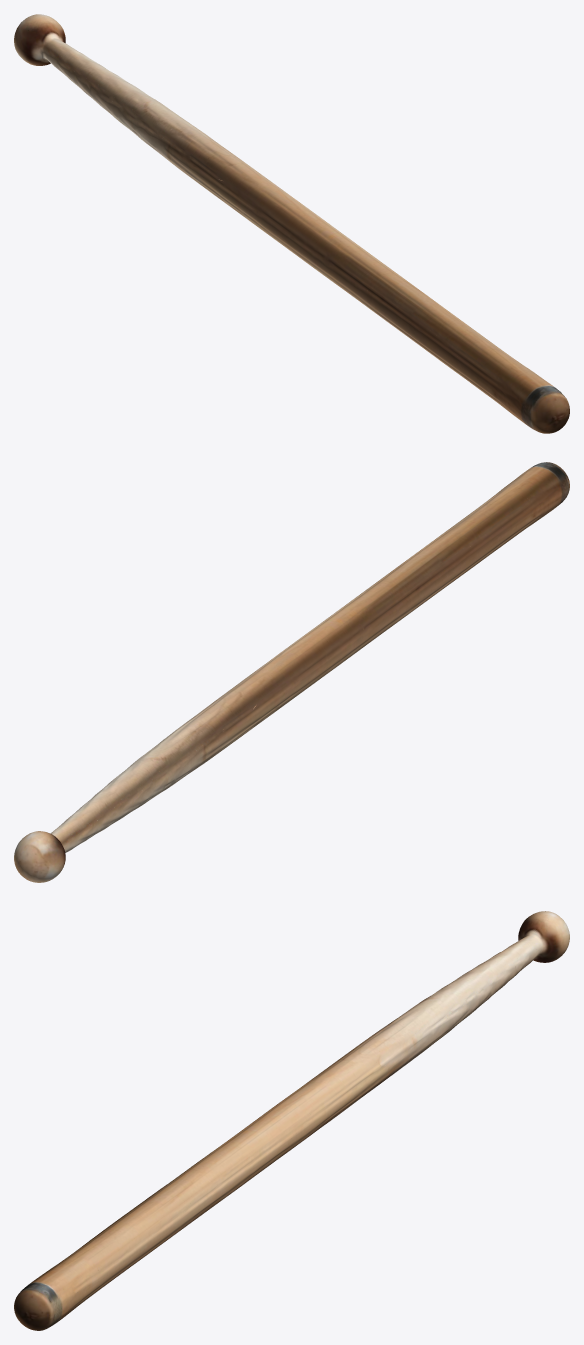
The model's file is drumstick.glb.
3 views of the same model, one above another, from view 1: azimuth 30°, elevation 25°; view 2: azimuth 150°, elevation 25°; view 3: azimuth 330°, elevation 25° (orthographic).
Parts seen in each view (by area): view 1: Mesh1.0; view 2: Mesh1.0; view 3: Mesh1.0.
Part boxes in pixels (bbox=[...]): Mesh1.0: bbox=[14, 14, 569, 433]; Mesh1.0: bbox=[14, 462, 569, 882]; Mesh1.0: bbox=[14, 911, 569, 1330].
Bounding box in the file's own units: 0.0971 × 0.0976 × 2.
1 material, 1 textured.
